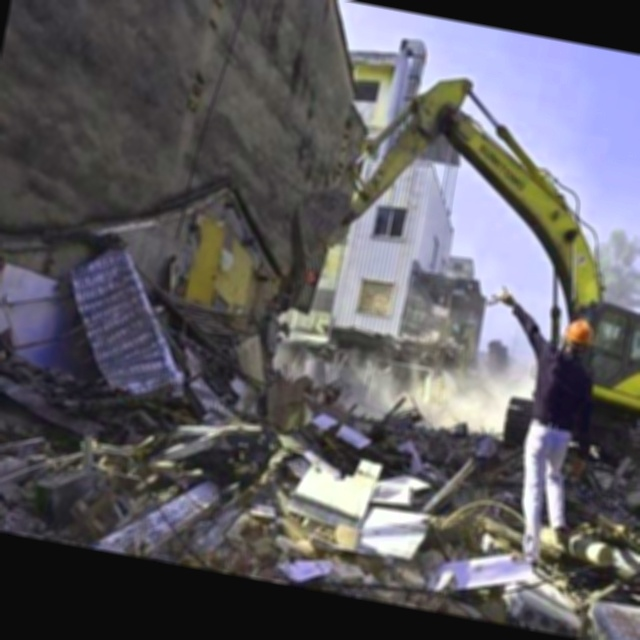Con_Casco: (562, 316, 596, 359)
